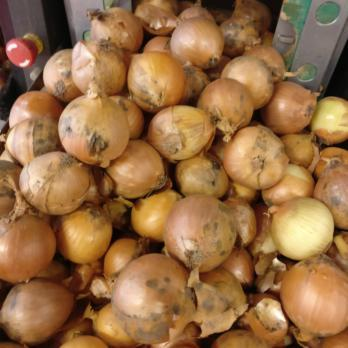Onion: (4, 135, 348, 348), (85, 4, 279, 141), (13, 50, 88, 136), (279, 73, 348, 141)
